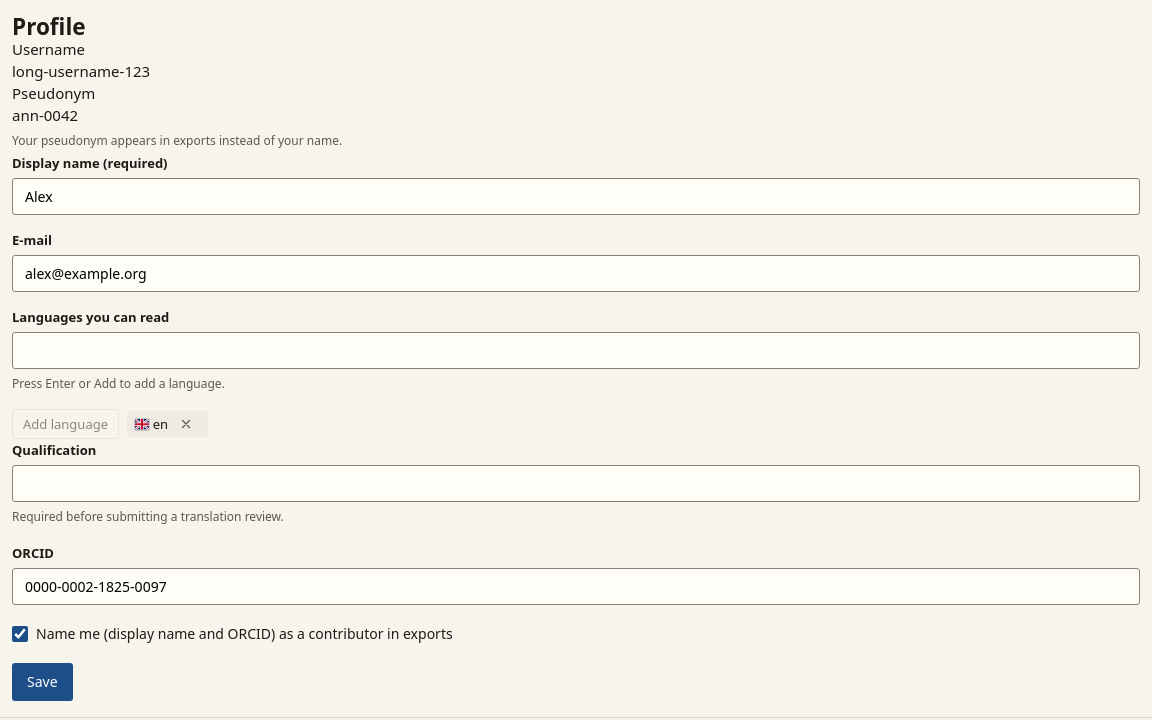
it: ProfilePage component › keeps profile edits on a session error and does not create another login dialog
This screenshot has width=1152, height=720.
Check: the text "ann-0042" is shown, box top-left (12, 105), bottom-right (78, 125)
Replace the text in the field labelled "Display name (required)" with "Unsaved Alex": (576, 196) top-left (12, 178), bottom-right (1140, 215)
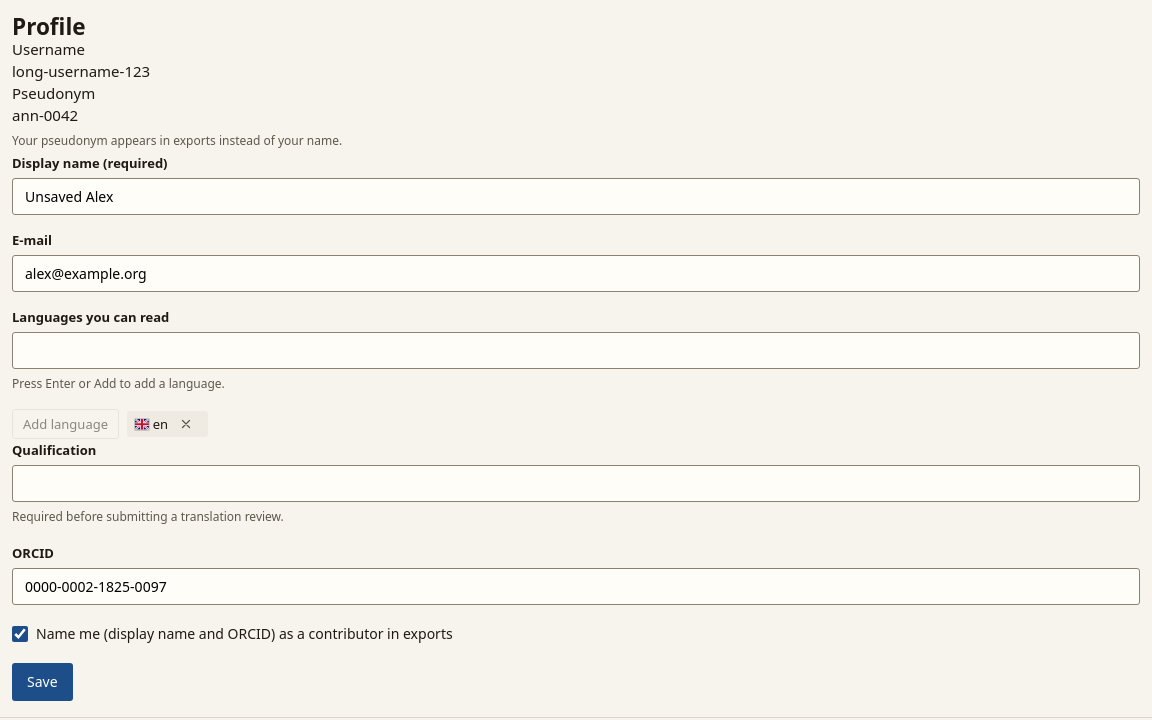
Click the button "Save": (42, 682) top-left (12, 663), bottom-right (73, 701)
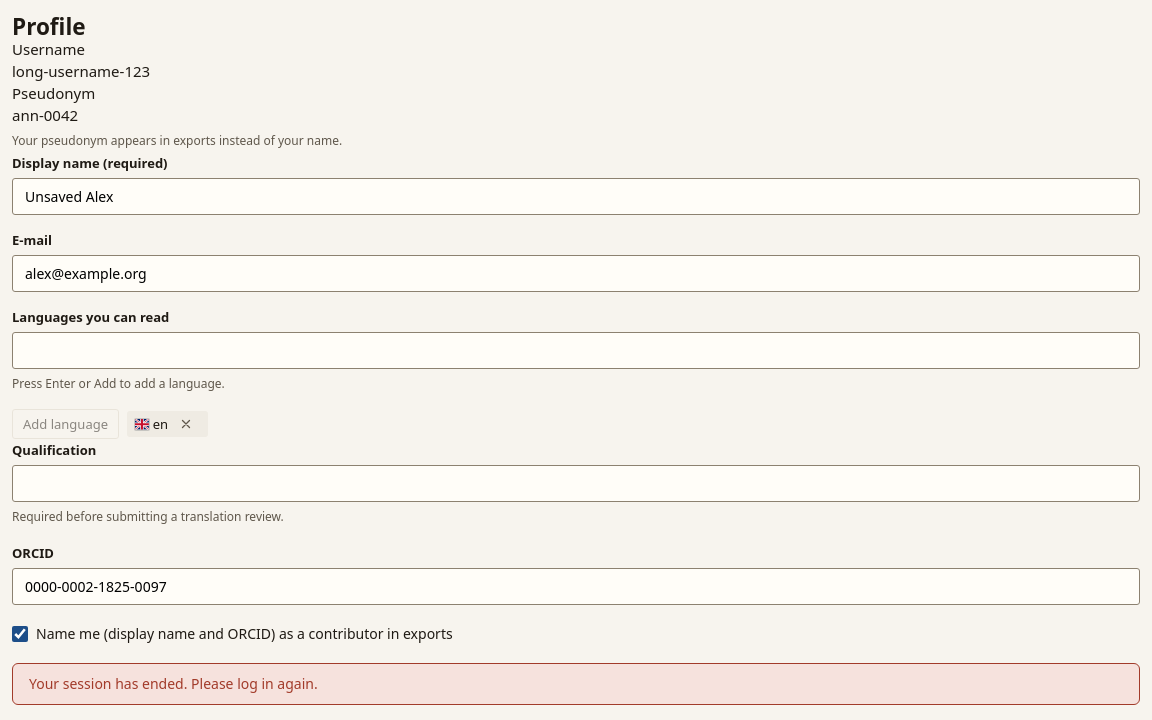
Check: the message "Your session has ended. Please log in again." is shown, box top-left (12, 663), bottom-right (1140, 705)
